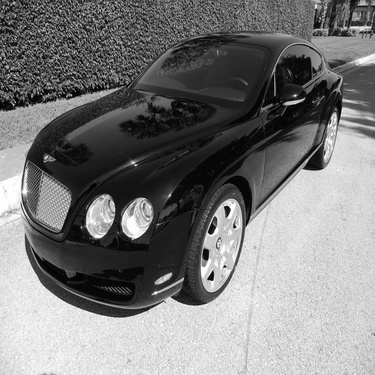car: (19, 27, 347, 313), (346, 11, 371, 40)
